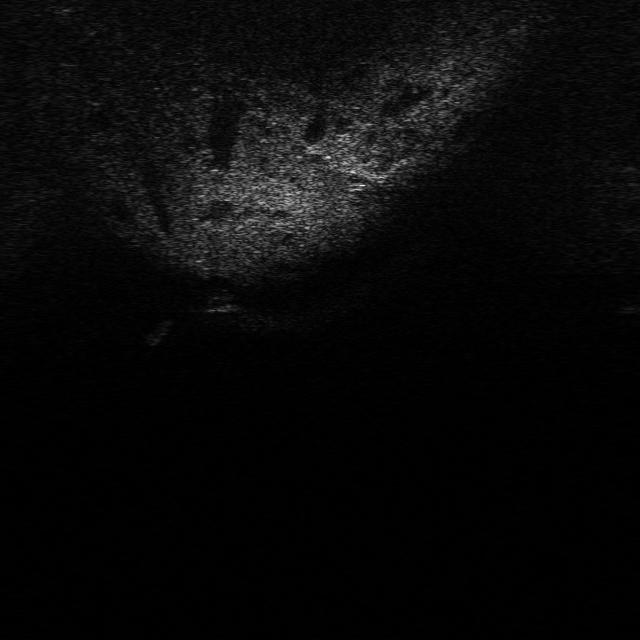cube: (197, 286, 238, 313)
cylinder: (142, 316, 173, 350)
